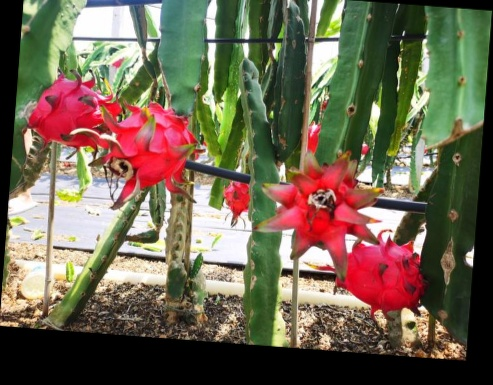pitaya: (261, 155, 378, 254), (113, 104, 192, 184), (30, 78, 122, 146), (336, 238, 426, 306), (222, 179, 251, 217), (300, 121, 329, 155)
